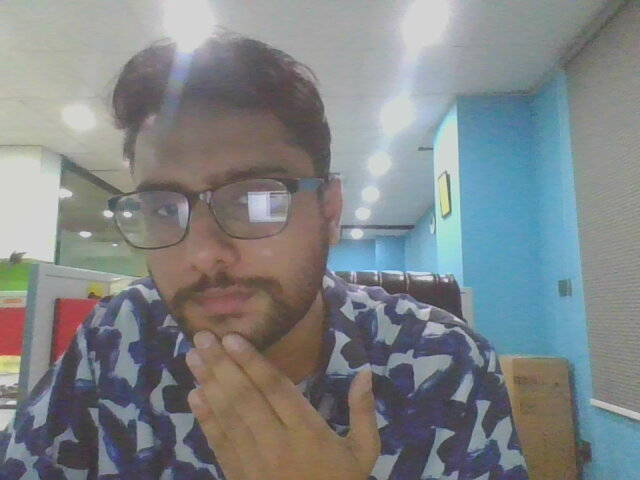thanks: (167, 323, 402, 480)
